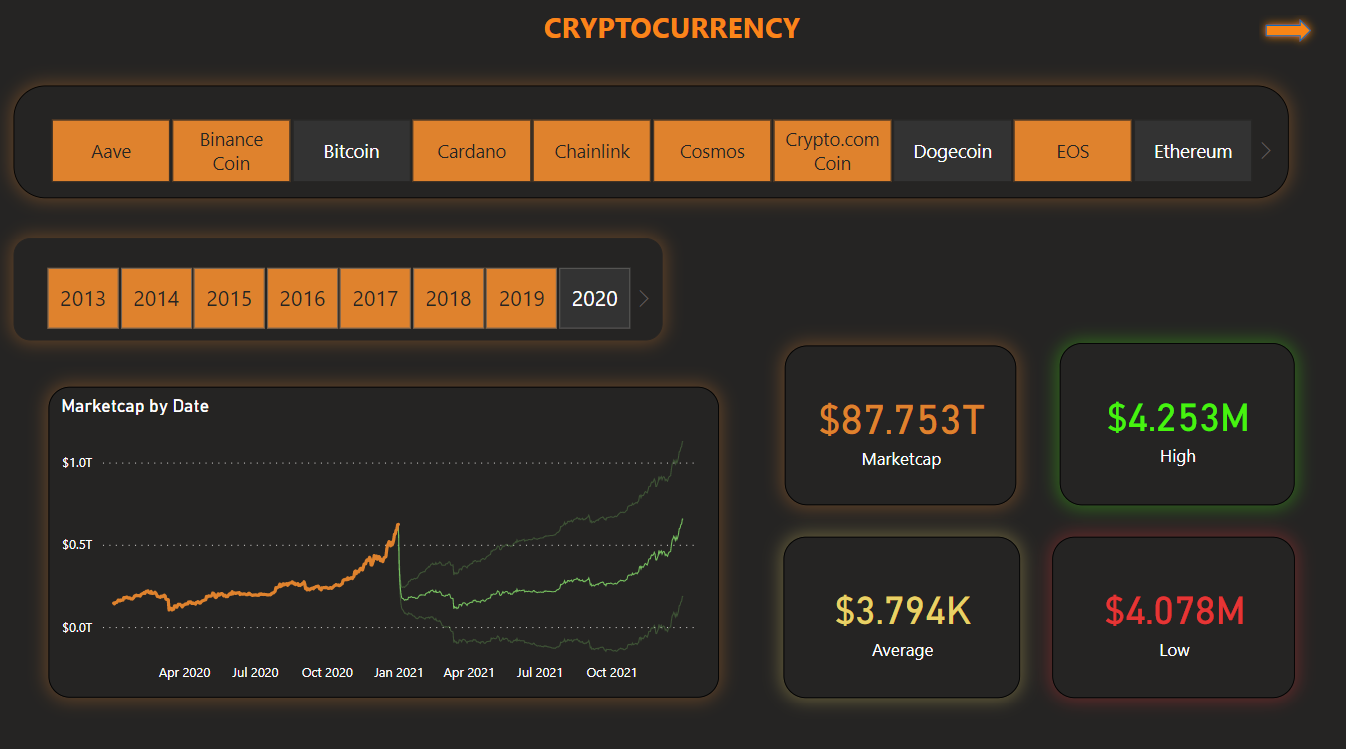

This screenshot's page, from the dashboard's own definition file:
{"tool":"powerbi","page":{"name":"Page 1","canvas":[1280,720],"ordinal":0},"visuals":[{"type":"slicer","fields":{"Values":["archive1.Name"]},"box":[16.4,91.3,1194.1,105.4],"z":0},{"type":"slicer","fields":{"Values":["archive1.Year"]},"box":[16.4,234.1,607.6,96],"z":1000},{"type":"lineChart","fields":{"Y":["Sum(archive1.Marketcap)"],"Category":["archive1.Date"]},"box":[48.7,373.3,628.2,291.1],"z":2000},{"type":"card","fields":{"Values":["Sum(archive1.Marketcap)"]},"box":[738.5,335.1,216.6,149.9],"z":3000},{"type":"shape","box":[1181.3,21.1,58.5,37.5],"z":4000},{"type":"card","fields":{"Values":["Sum(archive1.Low)"]},"box":[989,514.2,227.1,151],"z":5000},{"type":"card","fields":{"Values":["Sum(archive1.High)"]},"box":[996.1,332.7,220.1,152.2],"z":6000},{"type":"card","title":"Averge","fields":{"Values":["Avg(archive1.Average)"]},"box":[737.1,514.4,221.3,151],"z":7000},{"type":"textbox","box":[508.1,12.9,265.8,45.7],"z":8000}]}

Visuals, with their boxes in screenshot pixels (x1, y1, x2, y2), scaled from the page's 1280x720 canvas onto the 1346x749 screenshot:
slicer - archive1.Name: 17, 95, 1273, 205
slicer - archive1.Year: 17, 244, 656, 343
lineChart - Sum(archive1.Marketcap) x archive1.Date: 51, 388, 712, 691
card - Sum(archive1.Marketcap): 777, 349, 1004, 505
shape: 1242, 22, 1304, 61
card - Sum(archive1.Low): 1040, 535, 1279, 692
card - Sum(archive1.High): 1047, 346, 1279, 504
"Averge" card: 775, 535, 1008, 692
textbox: 534, 13, 814, 61
